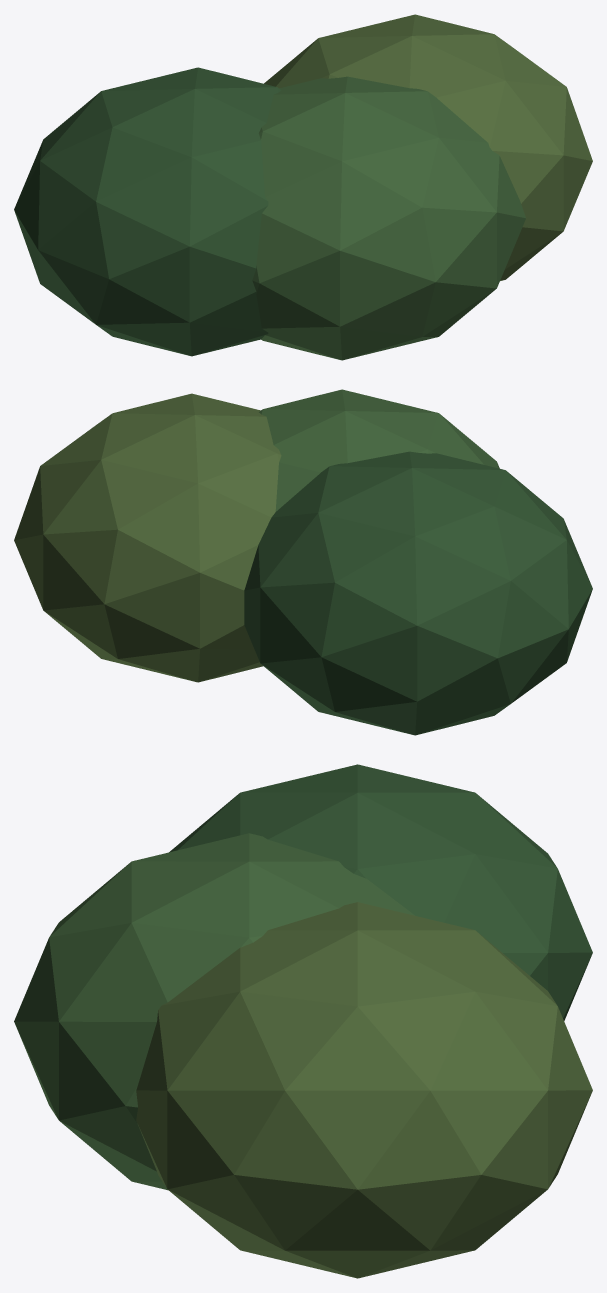
File: forest_shrub.glb
The picture shows the model from 3 angles, top to bottom: view 1: azimuth 30°, elevation 25°; view 2: azimuth 150°, elevation 25°; view 3: azimuth 270°, elevation 25°; orthographic projection. The views are drawn at different scales.
Parts seen in each view (by area): view 1: forest_shrub_LOD0; view 2: forest_shrub_LOD0; view 3: forest_shrub_LOD0.
Boxes of the visible parts, left/top/right/bottom form: forest_shrub_LOD0: left=14, top=14, right=592, bottom=360; forest_shrub_LOD0: left=14, top=389, right=592, bottom=735; forest_shrub_LOD0: left=14, top=764, right=592, bottom=1278.
Size of what is drawn, in the model's own units: 2.2 by 0.975 by 1.6.
